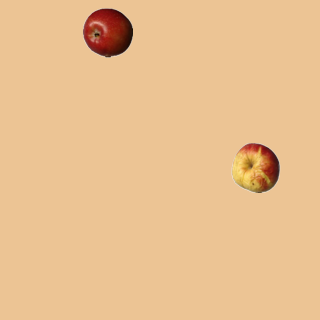Apple Braeburn: (82, 7, 132, 57)
Apple Red Yellow 1: (230, 142, 280, 192)
